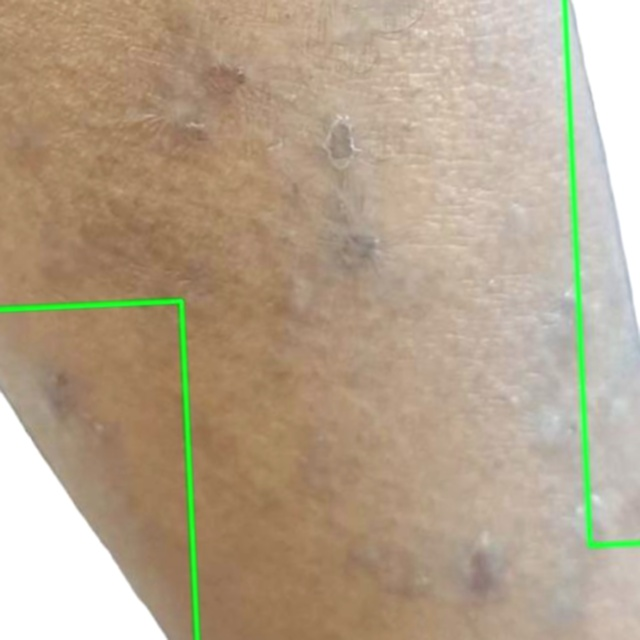Atopic Dermatitis: (0, 301, 197, 639)
